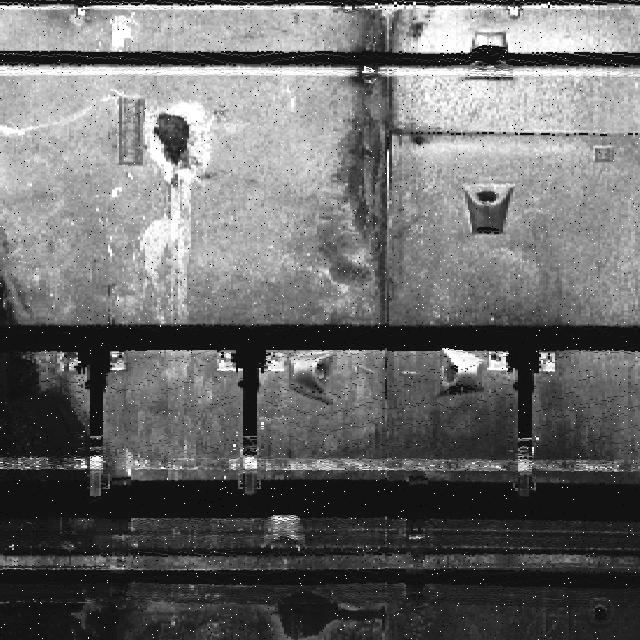leakage: (1, 224, 104, 639), (326, 5, 422, 301), (256, 585, 407, 639)
